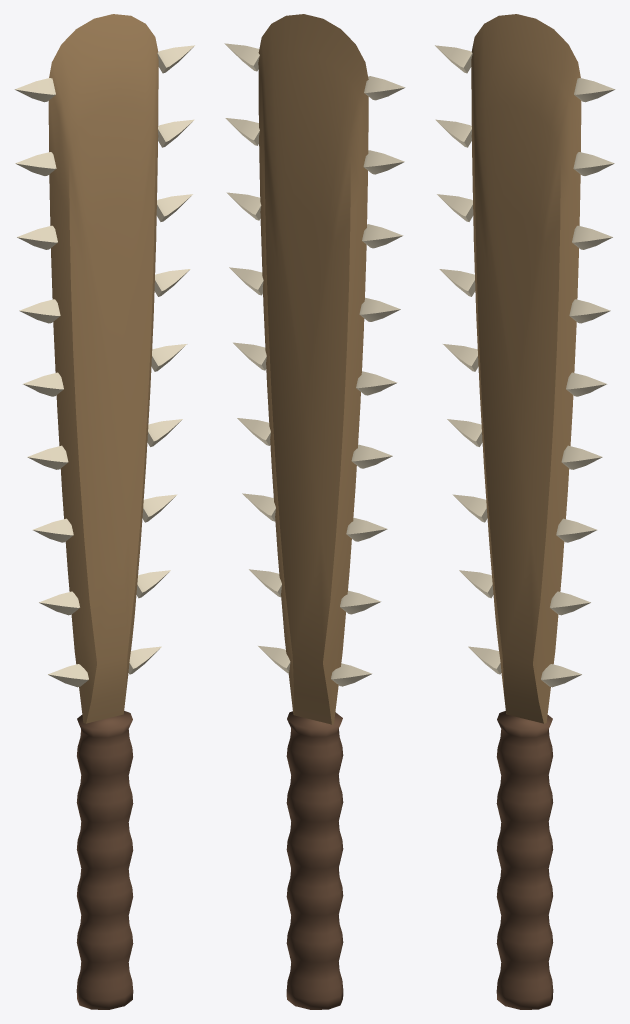
Rendered from terbutje.glb.
The picture shows the model from 3 angles, left to right: view 1: azimuth 30°, elevation 25°; view 2: azimuth 150°, elevation 25°; view 3: azimuth 330°, elevation 25°; orthographic projection.
Parts seen in each view (by area): view 1: terbutje; view 2: terbutje; view 3: terbutje.
Boxes of the visible parts, x1=… form: terbutje: x1=14, y1=14, x2=194, y2=1009; terbutje: x1=224, y1=14, x2=405, y2=1009; terbutje: x1=435, y1=14, x2=615, y2=1009.
Bounding box in the file's own units: 0.23 × 1.19 × 0.0533.
